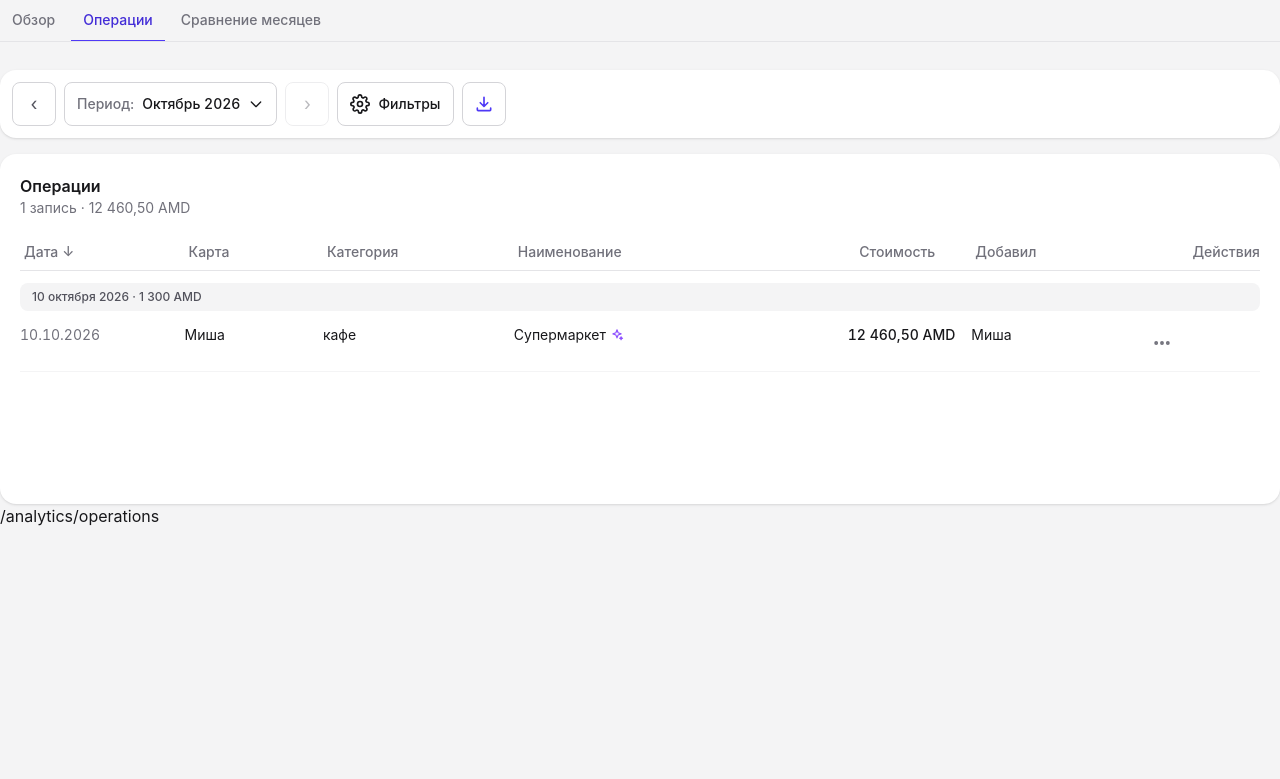
карточка записи: пометки AI › у названия и даты с источником ai есть пометка; у обычных нет
This screenshot has width=1280, height=779.
Expected: the text "Супермаркет" is shown, [514, 325, 606, 345]
Click the button named "Действия" at (1162, 343), box [1144, 325, 1180, 361]
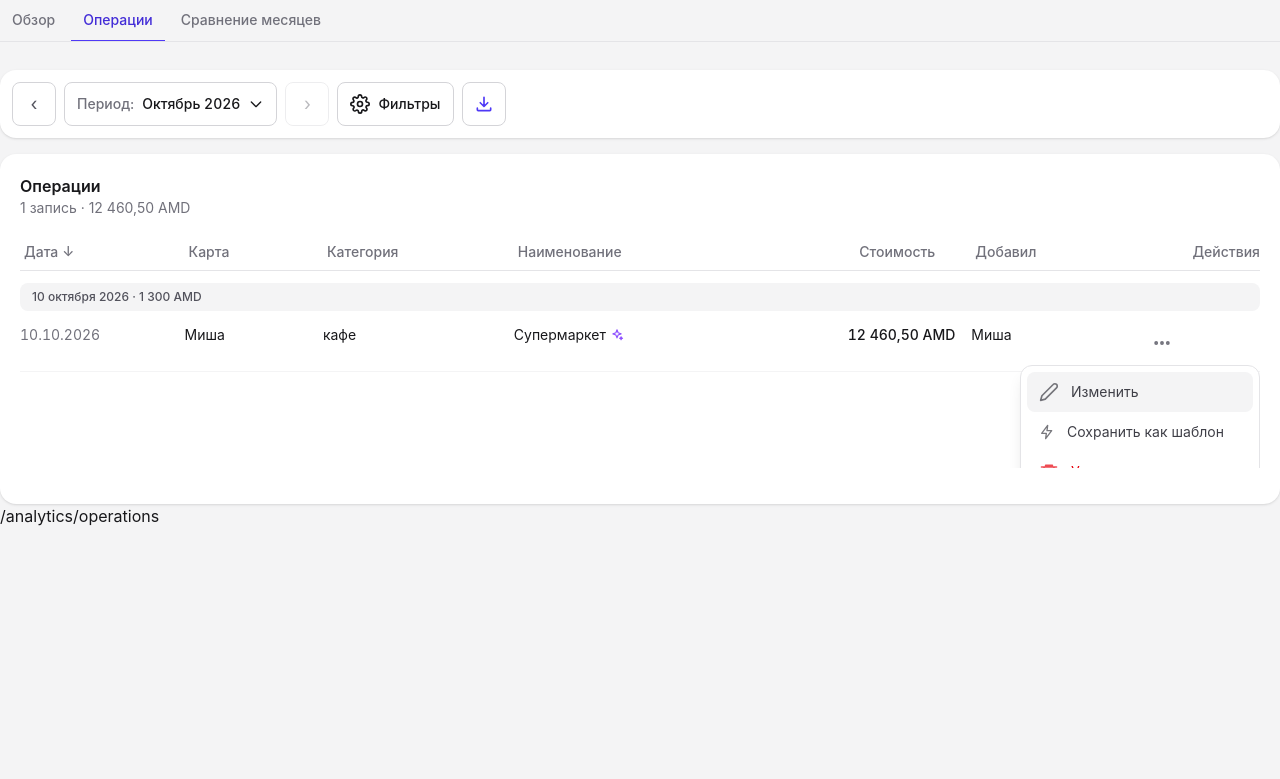
Click the menu item "Изменить" at (1140, 392), box [1027, 372, 1253, 412]
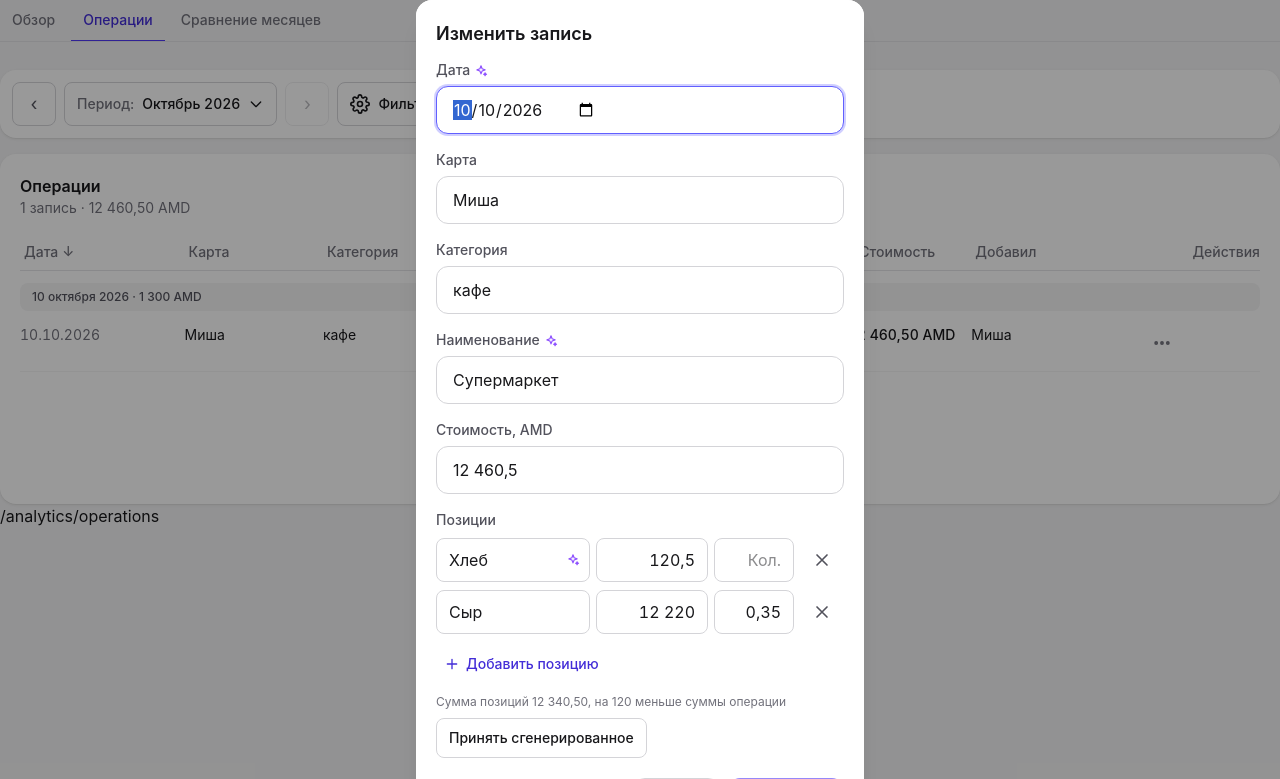
Expected: the 2nd picture named "Сгенерировано с помощью AI" is shown, [544, 334, 558, 348]
